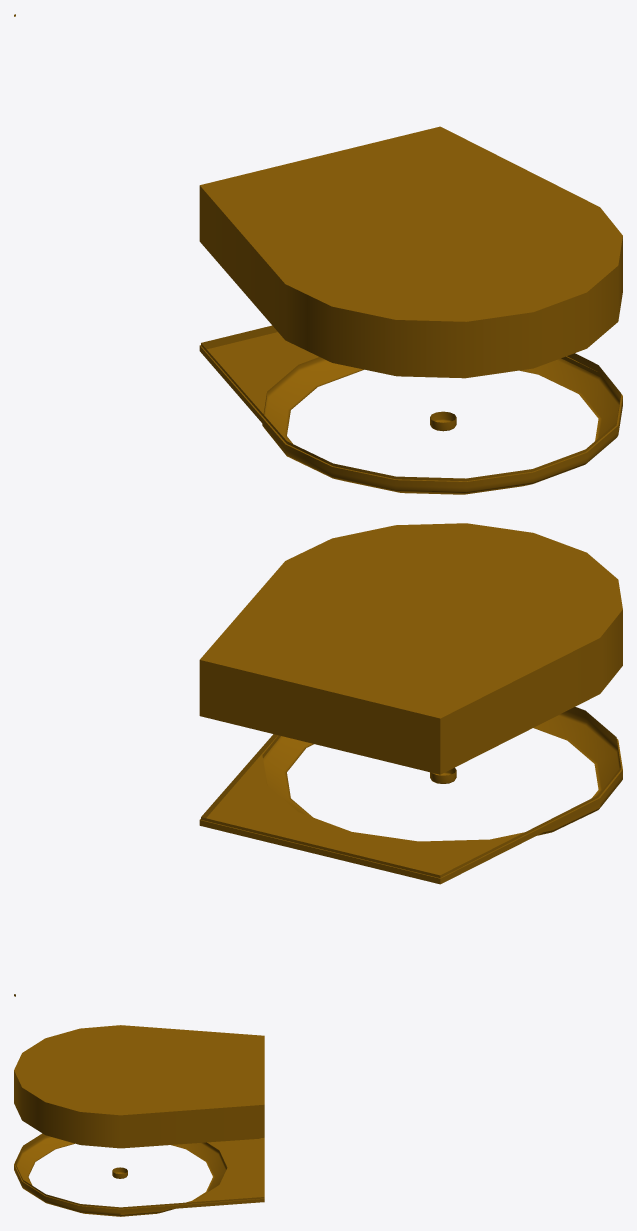
File: AlarmClock_4_AlarmClock_4_0_GeomSubset_0.obj
The picture shows the model from 3 angles, top to bottom: view 1: azimuth 30°, elevation 25°; view 2: azimuth 150°, elevation 25°; view 3: azimuth 270°, elevation 25°; orthographic projection. The views are drawn at different scales.
Parts seen in each view (by area): view 1: AlarmClock_4_AlarmClock_4_0_GeomSubset_0; view 2: AlarmClock_4_AlarmClock_4_0_GeomSubset_0; view 3: AlarmClock_4_AlarmClock_4_0_GeomSubset_0.
Boxes of the visible parts, left/top/right/bottom form: AlarmClock_4_AlarmClock_4_0_GeomSubset_0: left=14, top=14, right=622, bottom=494; AlarmClock_4_AlarmClock_4_0_GeomSubset_0: left=14, top=523, right=622, bottom=996; AlarmClock_4_AlarmClock_4_0_GeomSubset_0: left=14, top=1025, right=264, bottom=1216.
Bounding box in the file's own units: 0.149 × 0.0822 × 0.4251.
